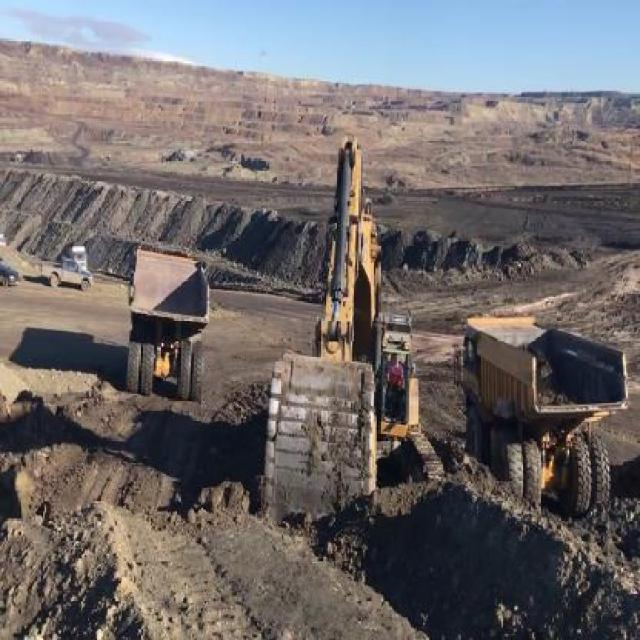dump_truck: (461, 315, 628, 520), (122, 246, 207, 412)
excavator: (259, 127, 447, 527)
